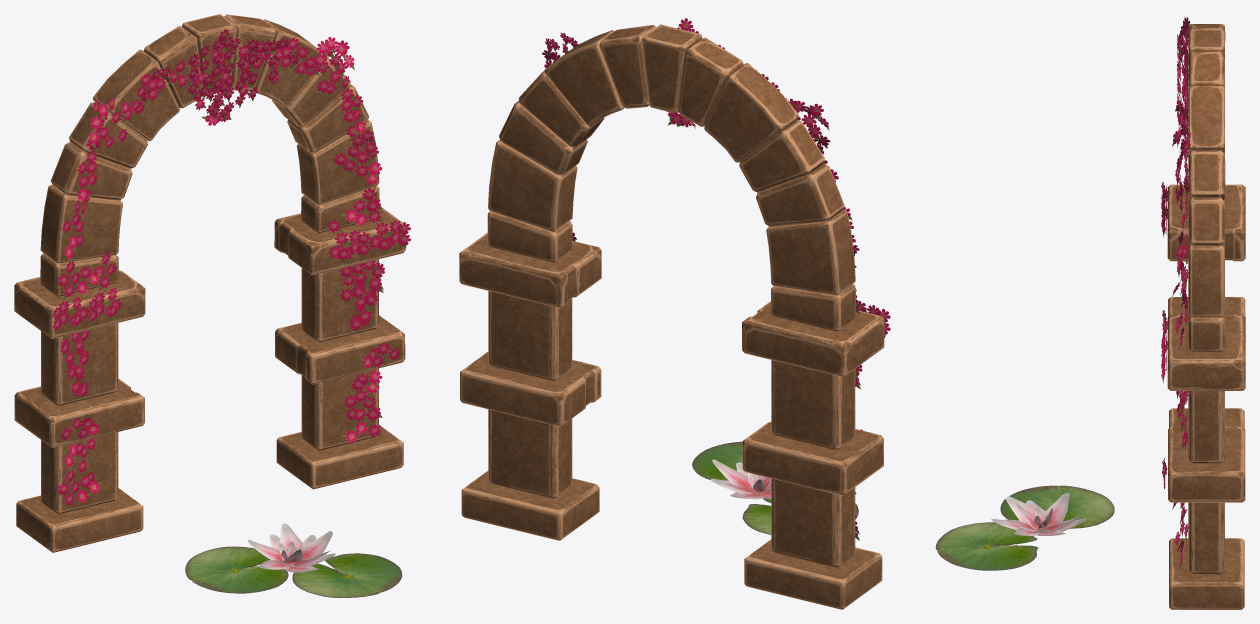
The model's file is Arch_Waterlilly.fbx.
3 renders of one model, left to right at view 1: azimuth 30°, elevation 25°; view 2: azimuth 150°, elevation 25°; view 3: azimuth 270°, elevation 25°, orthographic. The views are drawn at different scales.
Visible parts, largest first — view 1: Arch_Low, flowers, polySurface381; view 2: Arch_Low, flowers, polySurface381; view 3: Arch_Low, flowers, polySurface381.
Boxes of the visible parts, x1,y1,x2,y2 form: Arch_Low: [14, 14, 405, 552]; flowers: [185, 546, 402, 597]; polySurface381: [247, 523, 335, 572]; Arch_Low: [459, 24, 884, 609]; flowers: [692, 441, 858, 534]; polySurface381: [711, 459, 771, 499]; Arch_Low: [1167, 24, 1245, 609]; flowers: [935, 485, 1114, 570]; polySurface381: [991, 492, 1086, 535].
Bounding box in the file's own units: 8.21 × 10.47 × 6.07.
